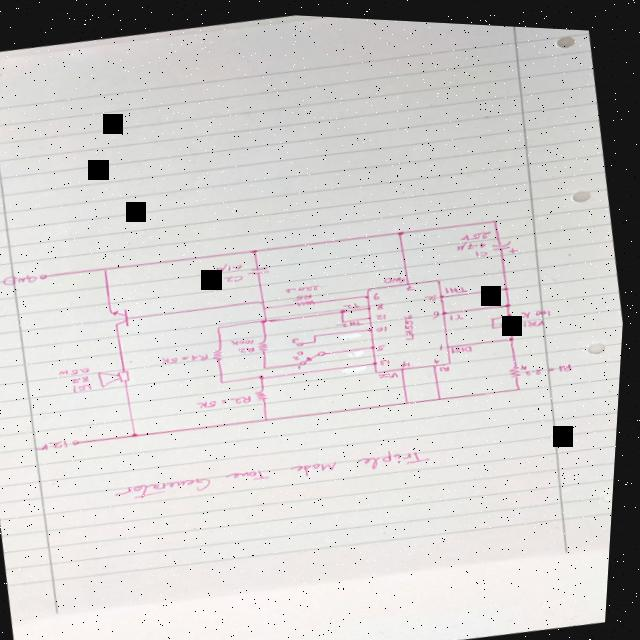capacitor: (491, 232, 522, 252), (249, 261, 275, 274)
junction: (261, 314, 276, 322), (505, 295, 516, 304), (251, 245, 263, 252), (134, 430, 145, 437), (398, 225, 409, 232), (260, 296, 272, 302), (218, 321, 228, 328), (264, 302, 273, 308), (104, 265, 113, 271), (407, 395, 416, 401), (343, 304, 352, 310), (264, 361, 273, 367), (262, 371, 271, 377), (439, 391, 449, 396), (493, 213, 503, 218), (267, 414, 276, 419), (511, 331, 520, 336), (505, 281, 514, 286), (342, 315, 351, 320), (519, 381, 527, 386), (492, 311, 500, 316), (509, 307, 517, 312), (493, 320, 500, 324), (223, 378, 230, 382), (315, 336, 321, 340), (316, 330, 322, 334)
resistor: (511, 357, 527, 374), (297, 294, 321, 305), (502, 312, 520, 326), (260, 336, 275, 350), (258, 386, 275, 398), (215, 345, 229, 359)
switch: (300, 343, 333, 363)
terminal: (75, 437, 87, 445), (42, 272, 53, 280), (300, 337, 310, 344)
text: (117, 428, 438, 514), (524, 351, 578, 374), (199, 389, 258, 409), (164, 347, 214, 365), (5, 270, 43, 288), (521, 300, 557, 315), (460, 223, 496, 238), (40, 437, 75, 452), (404, 308, 421, 337), (288, 279, 324, 292), (458, 233, 491, 247), (62, 364, 96, 377), (216, 258, 247, 272), (339, 314, 368, 327), (446, 278, 473, 291), (525, 311, 550, 324), (387, 269, 410, 282), (454, 338, 478, 350), (225, 270, 249, 282), (234, 334, 259, 345), (381, 366, 405, 377), (76, 381, 98, 393), (295, 289, 317, 299), (75, 373, 96, 383), (451, 306, 470, 317), (241, 342, 261, 352), (346, 297, 365, 306), (427, 289, 442, 298), (476, 244, 492, 252), (442, 359, 456, 368), (382, 353, 396, 362), (434, 305, 446, 315), (403, 355, 416, 364), (380, 321, 393, 330), (379, 308, 392, 317), (379, 339, 392, 348), (407, 279, 421, 287), (375, 287, 385, 296), (441, 338, 450, 347), (379, 298, 389, 306), (294, 334, 305, 341), (436, 352, 445, 360), (296, 352, 306, 358), (301, 361, 307, 367)
transistor: (110, 306, 136, 329)
